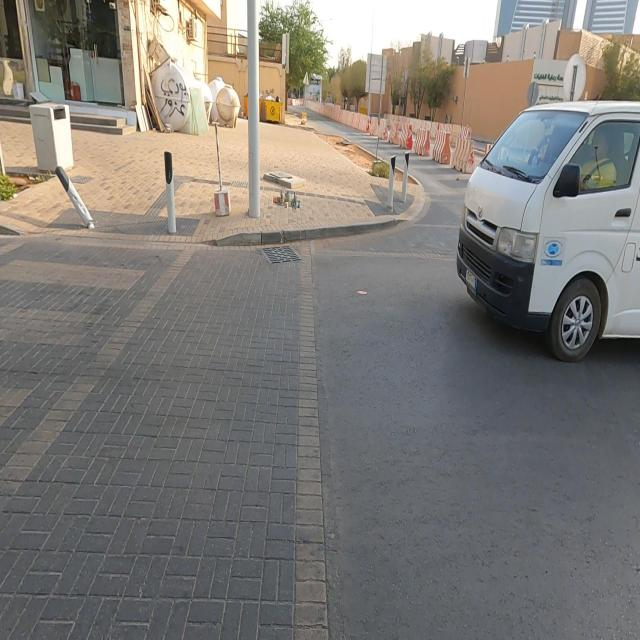Graffiti: (160, 79, 190, 123), (263, 89, 275, 98)
